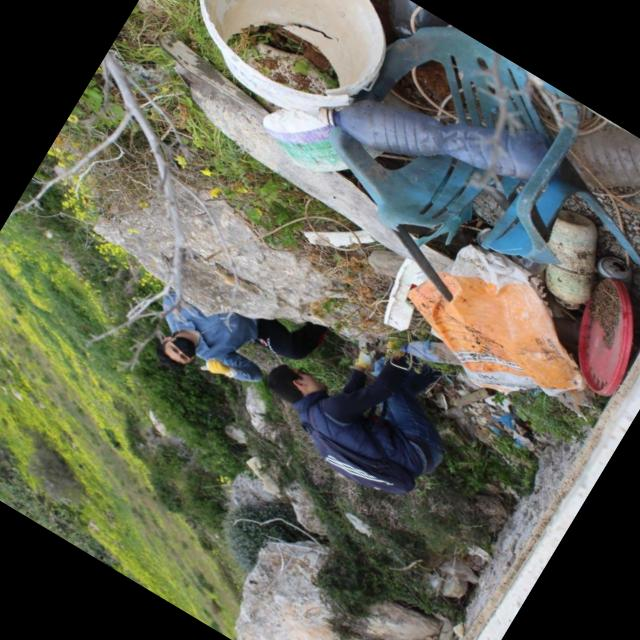Bottle: (320, 97, 549, 177), (565, 124, 640, 192), (546, 210, 594, 307), (397, 342, 458, 367), (367, 251, 404, 278)
Can: (596, 258, 628, 279)
Carton: (407, 239, 582, 399)
Other litter: (159, 31, 419, 264)
Other plastic: (316, 0, 640, 300), (198, 0, 393, 120), (574, 279, 635, 399), (264, 111, 346, 172), (481, 410, 533, 454), (439, 558, 482, 586), (344, 512, 373, 538)
Styrofoam piece: (382, 258, 424, 332), (301, 229, 376, 248), (467, 543, 494, 562)
